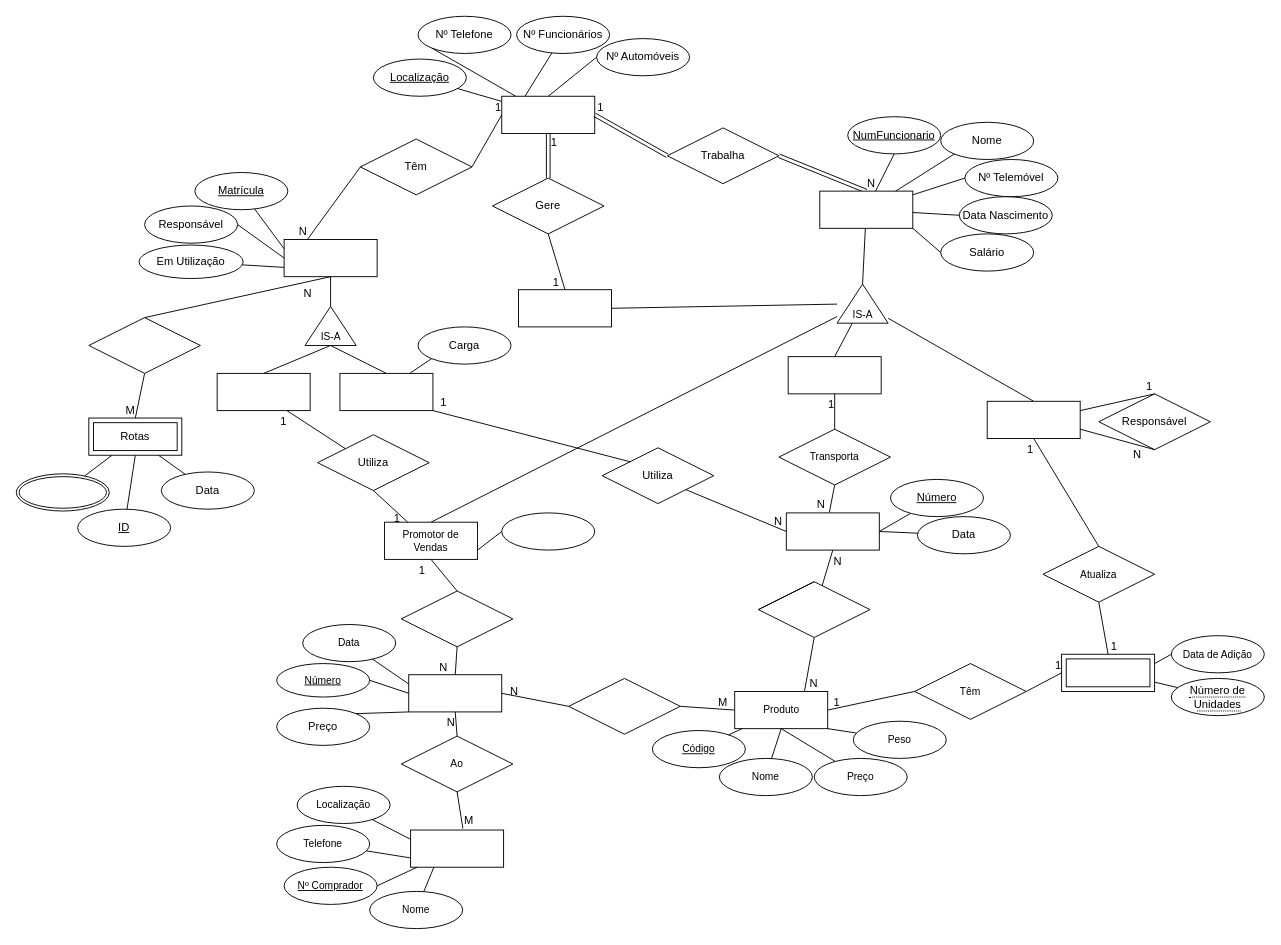
Some shapes in this 1281 by 945 pixel diagram are drawn without their labels. Here are the shapes that lost their labels. From the top down, the centre of each, then its label:
At pixel 548 114: "Armazém".
At pixel 866 209: "Funcionário".
At pixel 330 258: "Automóveis".
At pixel 564 308: "Gerente".
At pixel 144 345: "Fez".
At pixel 263 391: "Ligeiro".
At pixel 386 391: "Pesado".
At pixel 834 375: "Transportador".
At pixel 1033 419: "Operador".
At pixel 62 492: "Zonas".
At pixel 548 531: "Zona Designada".
At pixel 832 531: "Encomenda".
At pixel 456 618: "Estabelece".
At pixel 813 609: "Contém".
At pixel 1108 672: "Inventário".
At pixel 455 693: "Venda".
At pixel 624 706: "Sobre".
At pixel 457 848: "Comprador".
